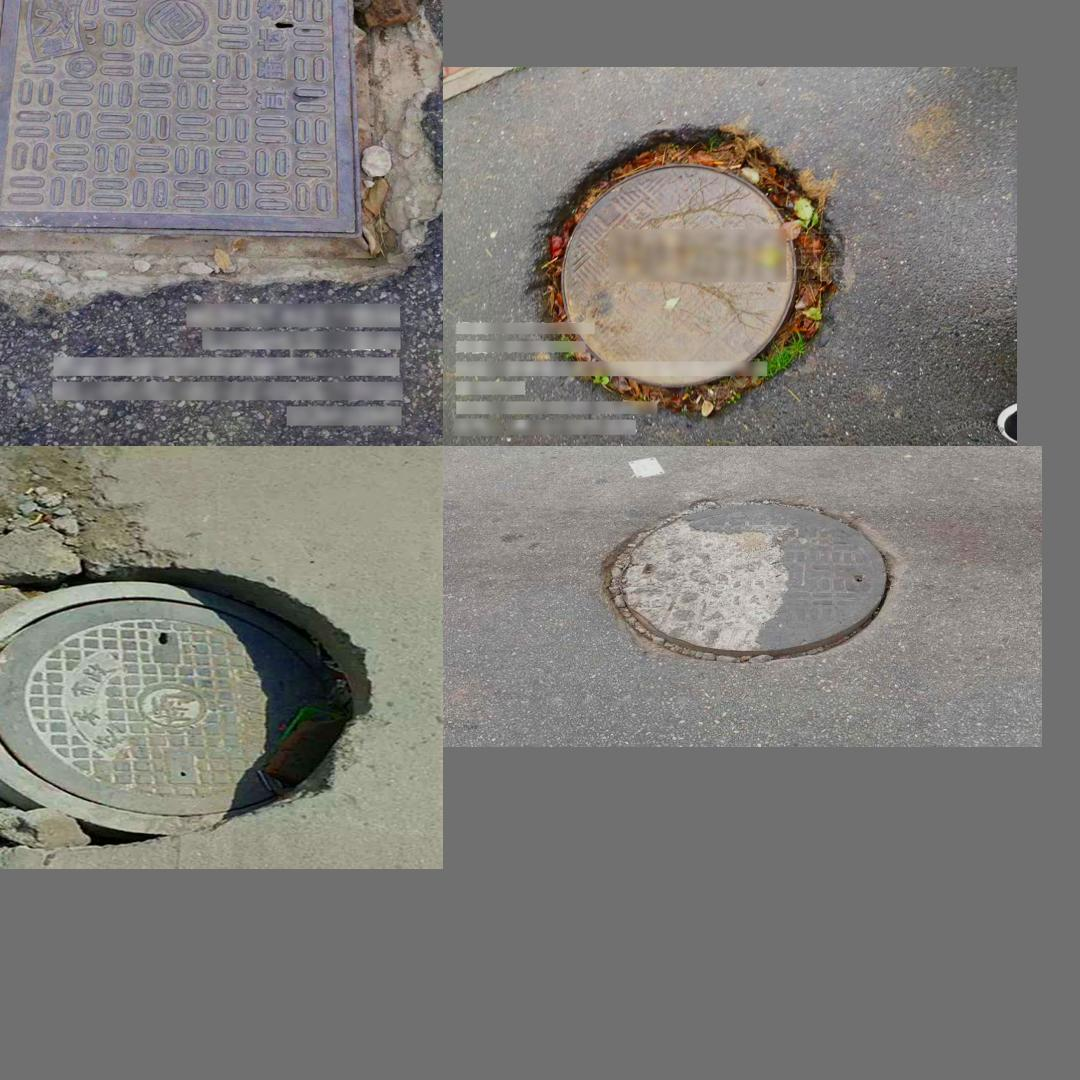circle: (0, 479, 370, 843), (0, 0, 414, 285), (523, 128, 844, 413), (586, 489, 904, 666)
